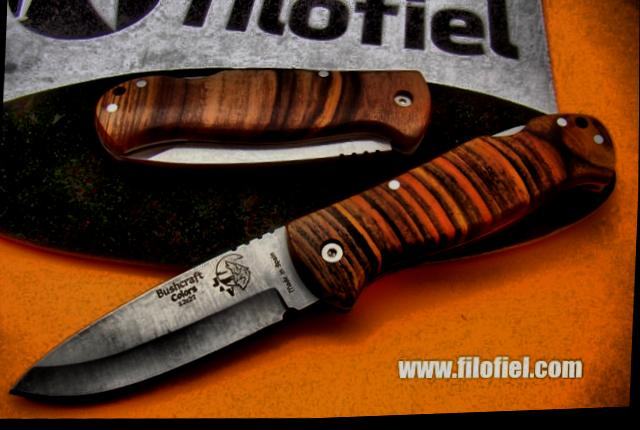knife: (0, 211, 338, 421)
